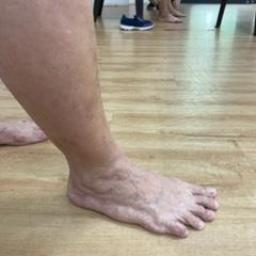Lateral View -Right Foot-: (48, 129, 238, 250)
